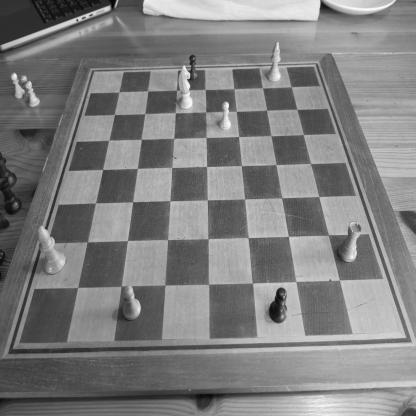black-pawn: (269, 287, 288, 323), (189, 54, 199, 81)
black-rook: (0, 177, 23, 215)
white-bishop: (36, 225, 66, 275), (267, 41, 281, 82)
white-knight: (178, 64, 193, 110)
white-pawn: (122, 284, 142, 322), (25, 80, 40, 108), (10, 72, 25, 99), (219, 102, 231, 130), (20, 74, 30, 102)
white-rook: (337, 221, 362, 263)
